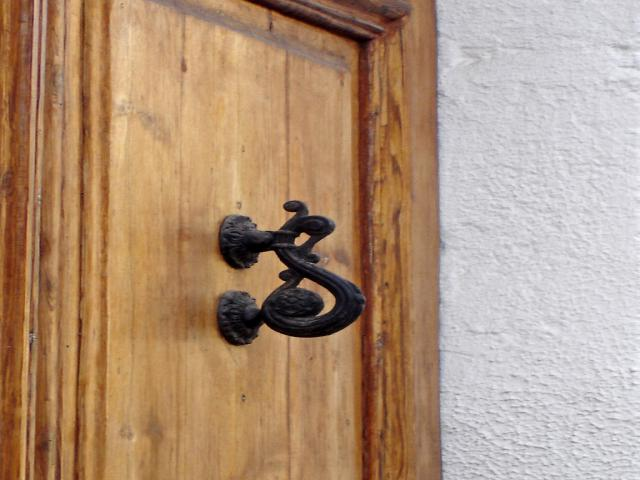Door-handle: (214, 199, 366, 346)
